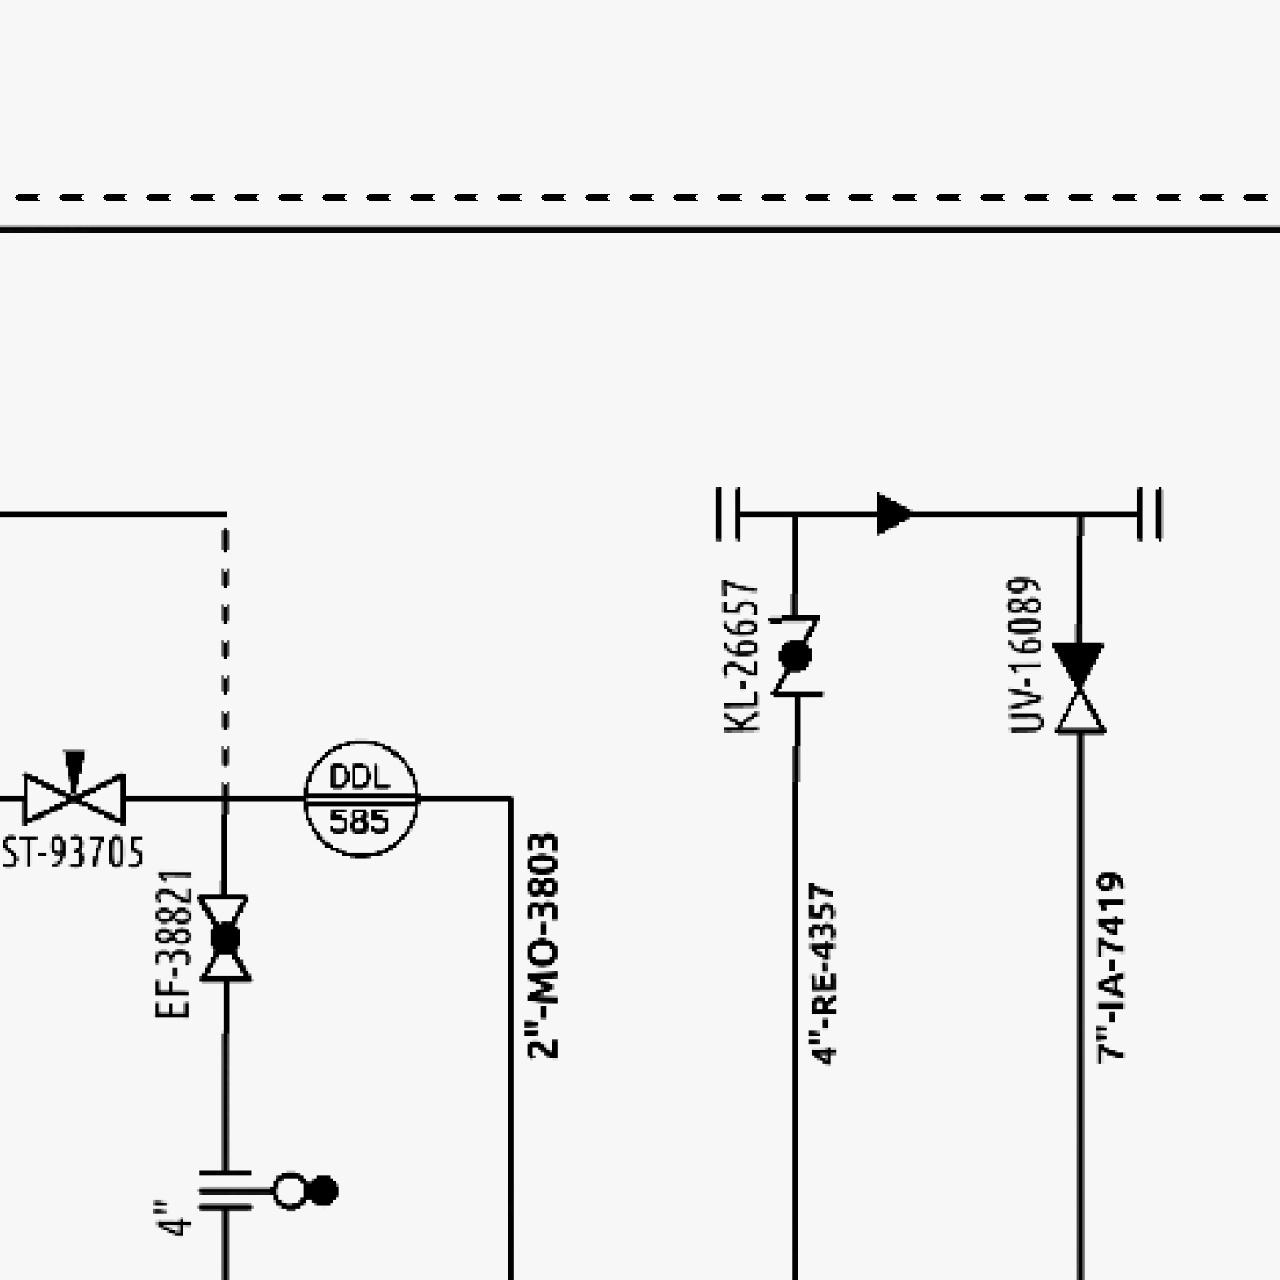Control-Panel: (297, 734, 424, 862)
Half closed valve: (1047, 636, 1109, 737)
